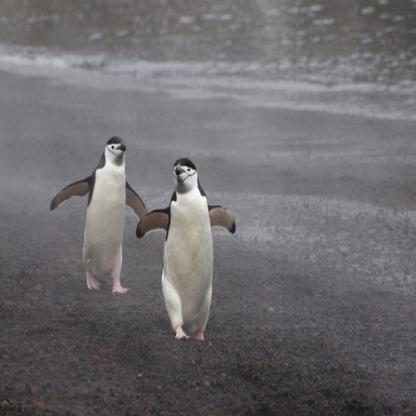Penguin: (132, 150, 248, 357), (44, 122, 157, 302)
